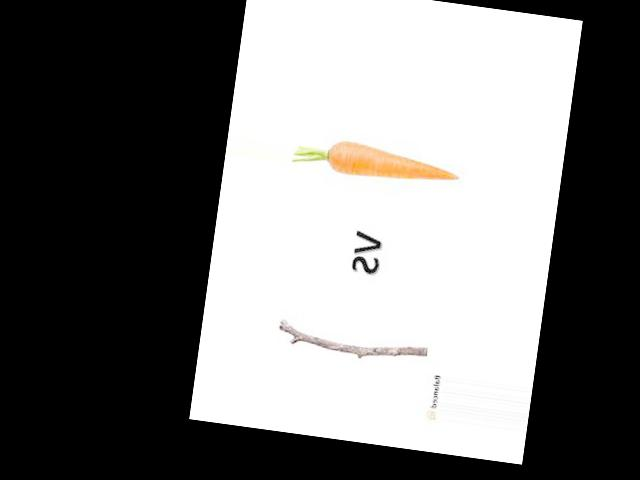carrot: (321, 132, 466, 199)
